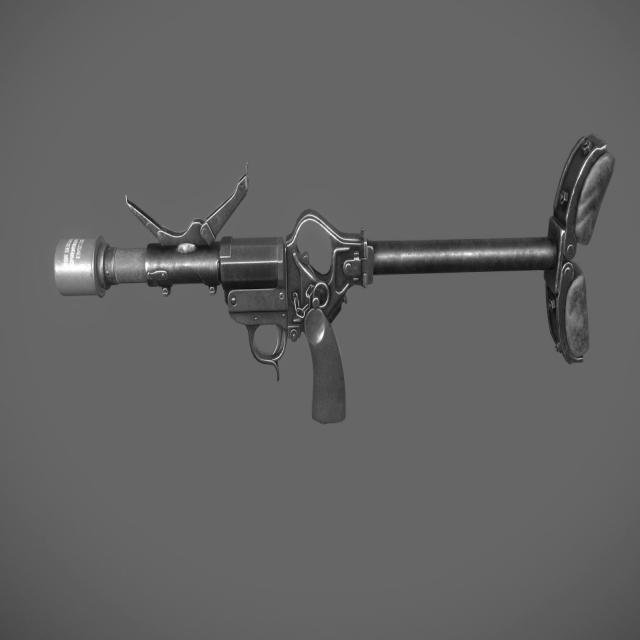Weapon: (54, 134, 613, 423)
